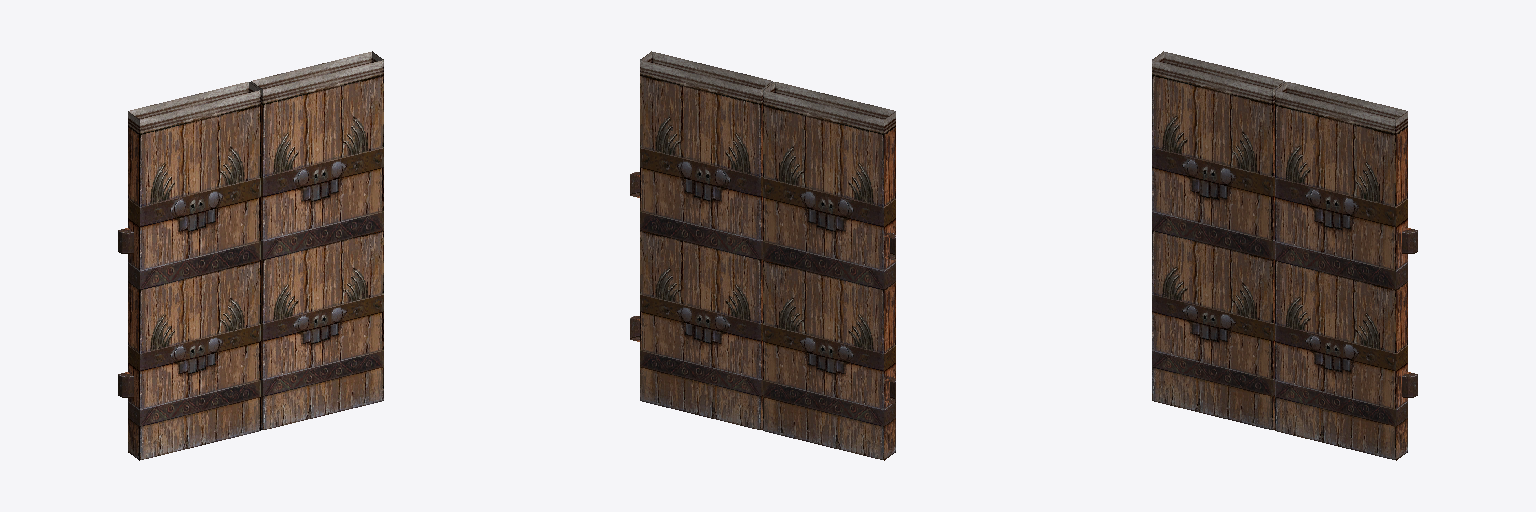
3 views of the same model, side by side, from view 1: azimuth 30°, elevation 25°; view 2: azimuth 150°, elevation 25°; view 3: azimuth 330°, elevation 25° (orthographic).
Visible parts, largest first — view 1: Object_1, obj1; view 2: Object_1, obj1; view 3: obj1, Object_1.
Part boxes in pixels (x1,y1,x2,y2): Object_1: (118,82,260,460); obj1: (251,51,383,429); Object_1: (763,82,895,460); obj1: (630,51,772,429); obj1: (1275,82,1417,460); Object_1: (1152,51,1284,429).
Size of the model in its own units: 65 by 80 by 5.
1 materials, 1 textured.